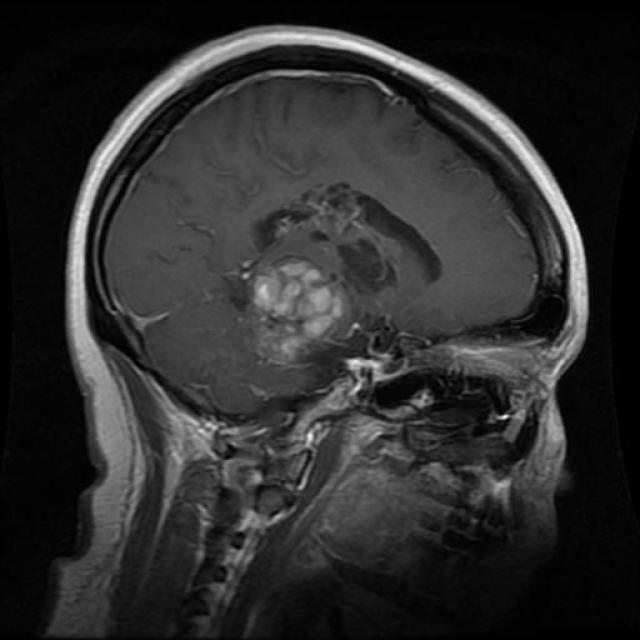glioma: (230, 181, 432, 355)
